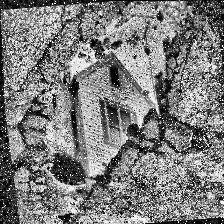pothole: (24, 0, 214, 202)
